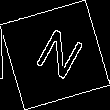N_SW: (25, 23, 85, 87)
